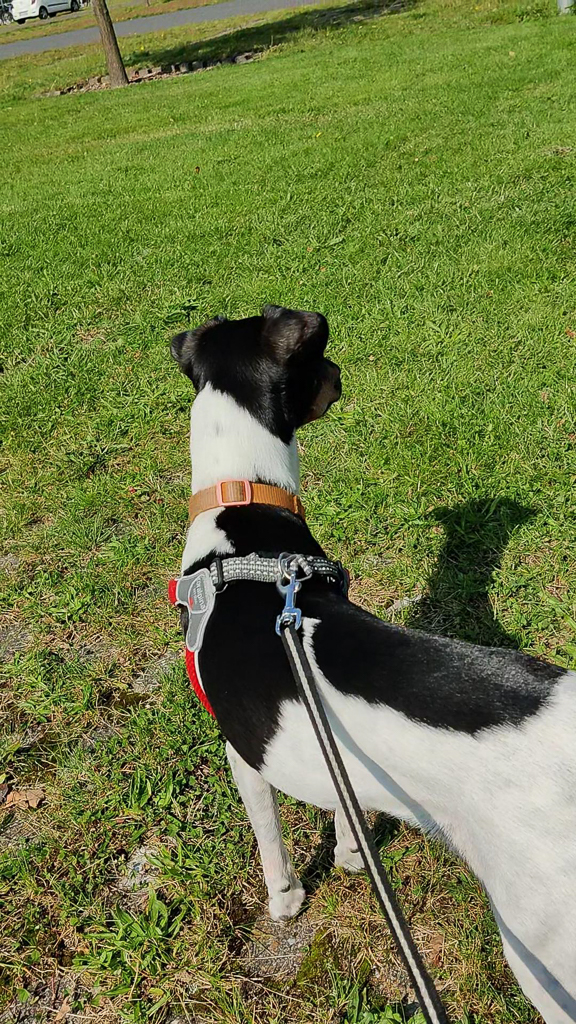Dog: (132, 277, 576, 1024)
